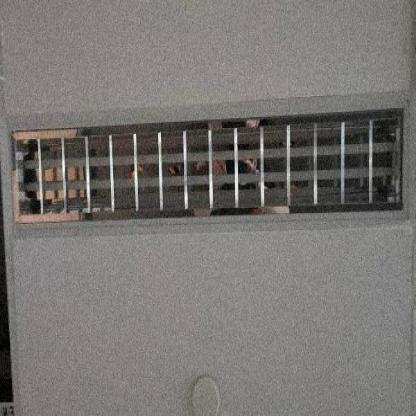light_off: (5, 87, 412, 234)
